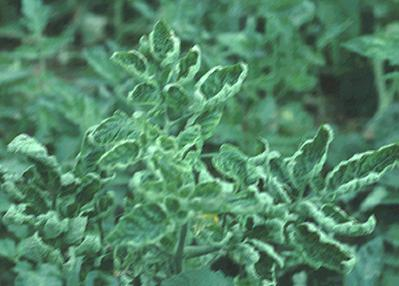Tomato leaf yellow virus: (283, 223, 399, 286), (315, 141, 399, 209), (98, 199, 180, 259), (94, 129, 166, 183), (292, 204, 399, 240), (300, 117, 345, 186), (81, 111, 141, 162), (149, 16, 184, 87), (192, 64, 251, 106), (96, 53, 163, 85)
